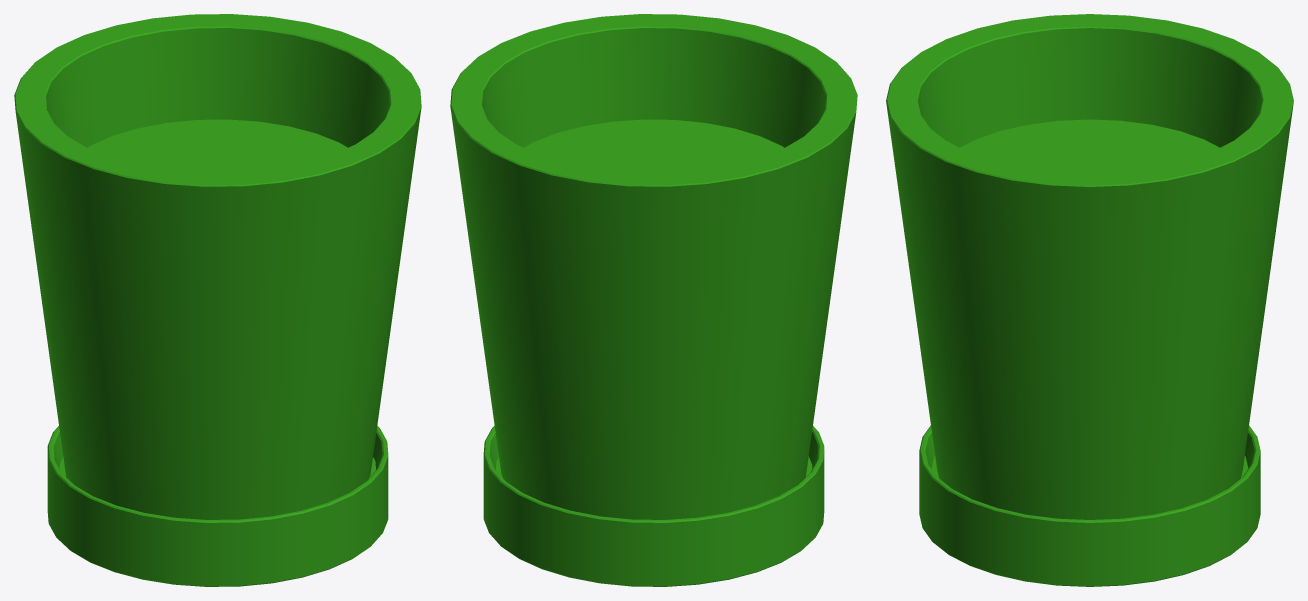
The model's file is donica_zielona.fbx.
The picture shows the model from 3 angles, left to right: view 1: azimuth 30°, elevation 25°; view 2: azimuth 150°, elevation 25°; view 3: azimuth 270°, elevation 25°; orthographic projection.
Visible parts, largest first — view 1: donica; view 2: donica; view 3: donica.
Boxes of the visible parts, x1,y1,x2,y2 form: donica: (14, 14, 421, 586); donica: (450, 14, 857, 586); donica: (886, 14, 1293, 586).
Bounding box in the file's own units: 141 × 162 × 141.
1 material, 1 textured.
